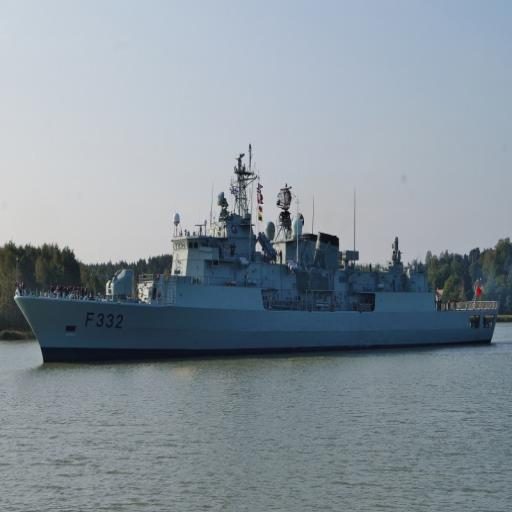Fragata: (12, 132, 499, 374)
